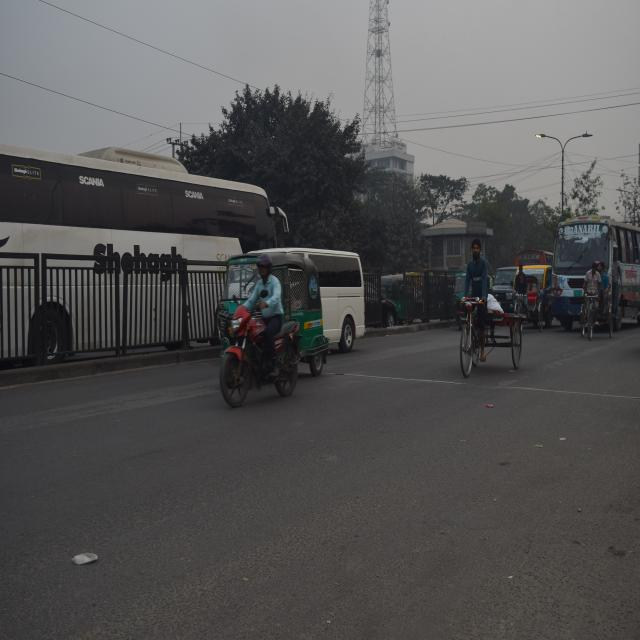bus: (0, 135, 280, 345), (551, 215, 639, 318)
microbus: (235, 242, 363, 351)
